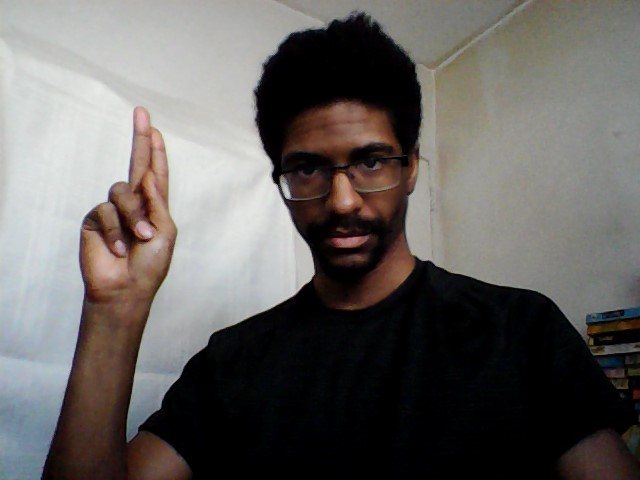k: (74, 103, 180, 313)
